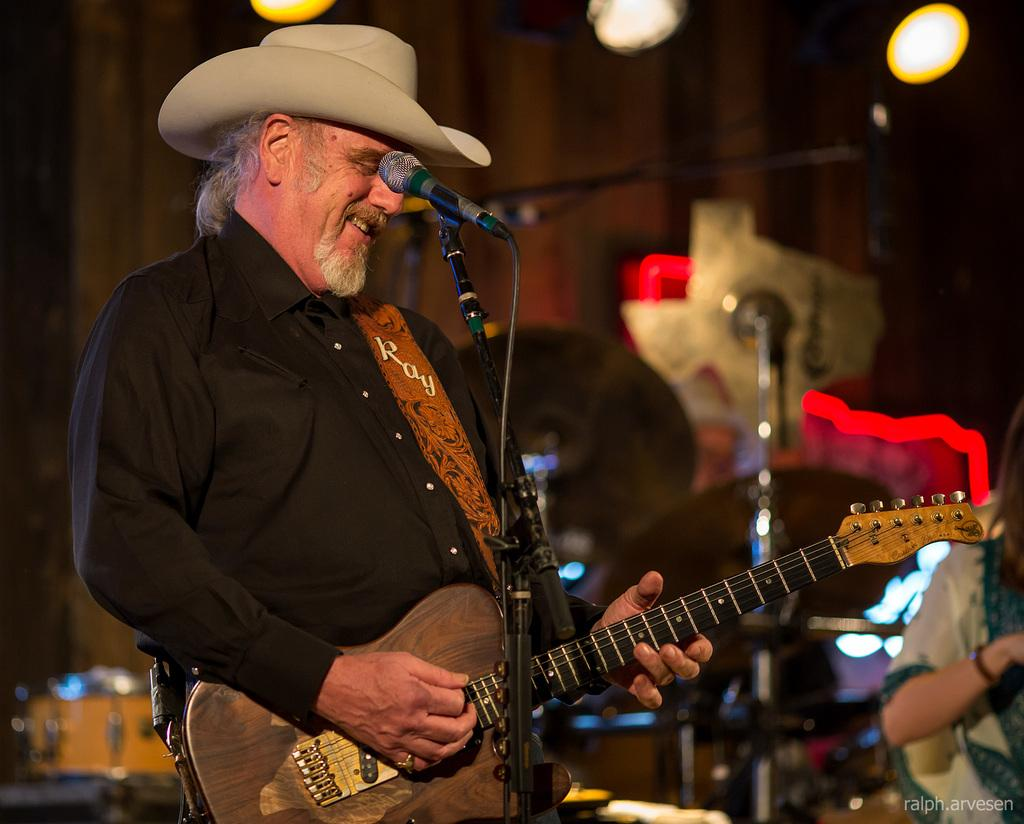Hat: (156, 23, 490, 164)
